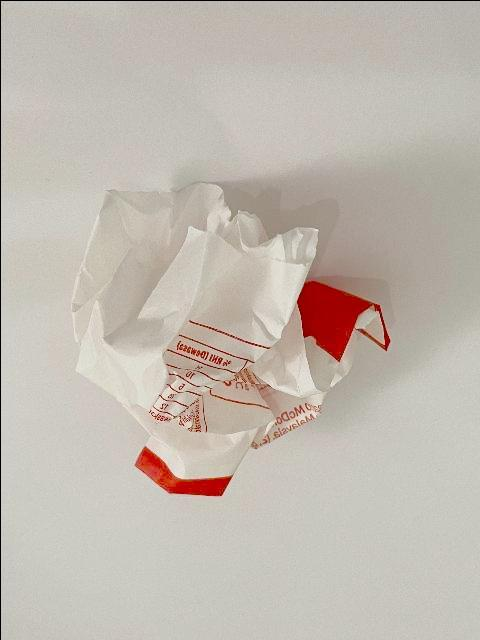paperbag: (68, 178, 392, 498)
